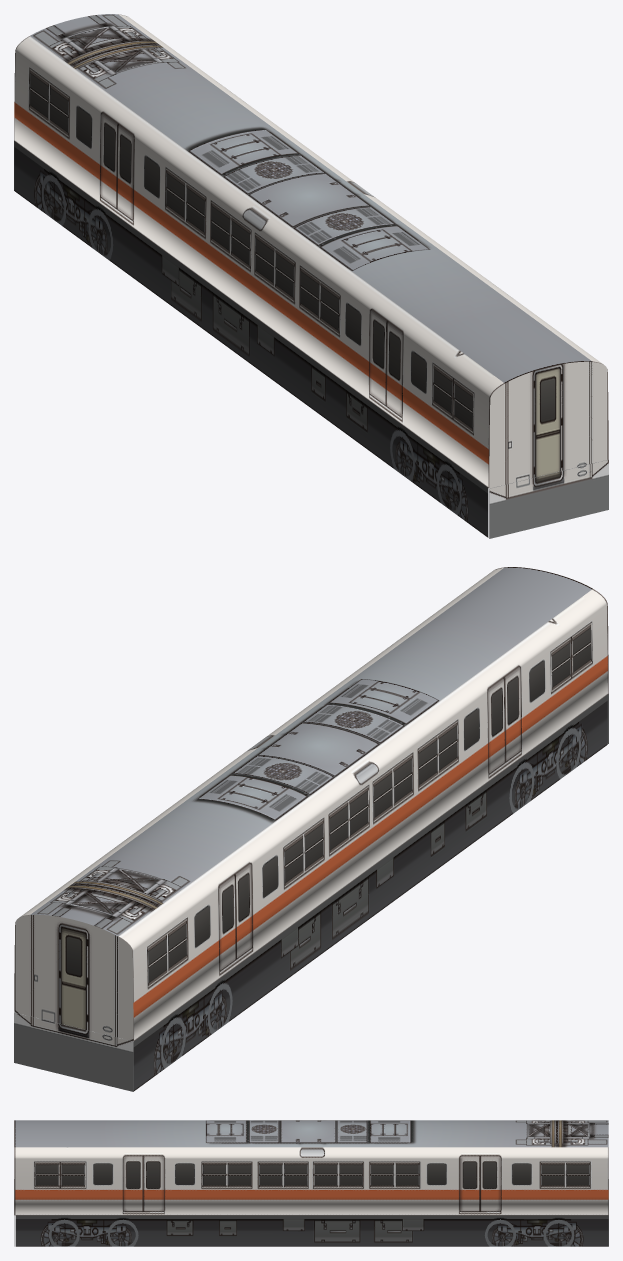
File: car2.glb
3 views of the same model, one above another, from view 1: azimuth 30°, elevation 25°; view 2: azimuth 150°, elevation 25°; view 3: azimuth 270°, elevation 25° (orthographic). The views are drawn at different scales.
Visible parts, largest first — view 1: jr-tokai-117-car2; view 2: jr-tokai-117-car2; view 3: jr-tokai-117-car2.
Part boxes in pixels (x1,y1,x2,y2): jr-tokai-117-car2: (14,14,608,538); jr-tokai-117-car2: (14,567,608,1091); jr-tokai-117-car2: (14,1120,608,1246).
Bounding box in the file's own units: 2.9 × 3.65 × 20.03.
9 materials, 8 textured.
